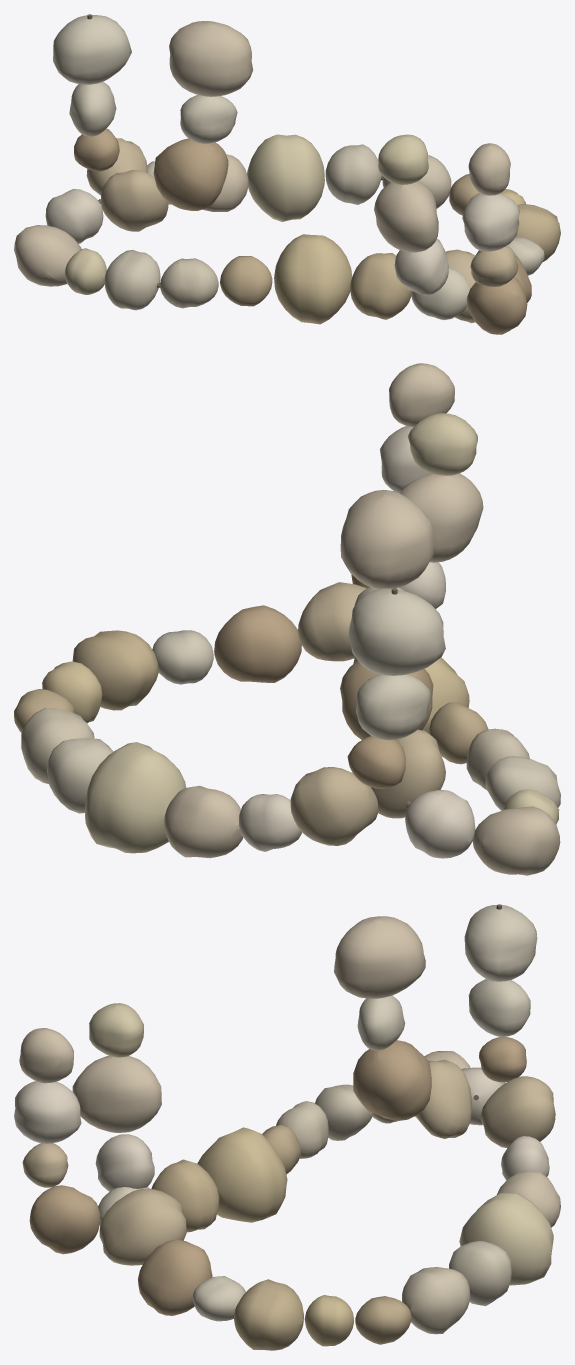
File: loops.glb
3 renders of one model, top to bottom at view 1: azimuth 30°, elevation 25°; view 2: azimuth 150°, elevation 25°; view 3: azimuth 270°, elevation 25°, orthographic. The views are drawn at different scales.
Visible parts, largest first — view 1: loops; view 2: loops; view 3: loops.
Part boxes in pixels (x1,y1,x2,y2): loops: (14,14,560,334); loops: (14,363,560,875); loops: (14,904,560,1350).
Size of the model in its own units: 1.05 by 0.585 by 1.
